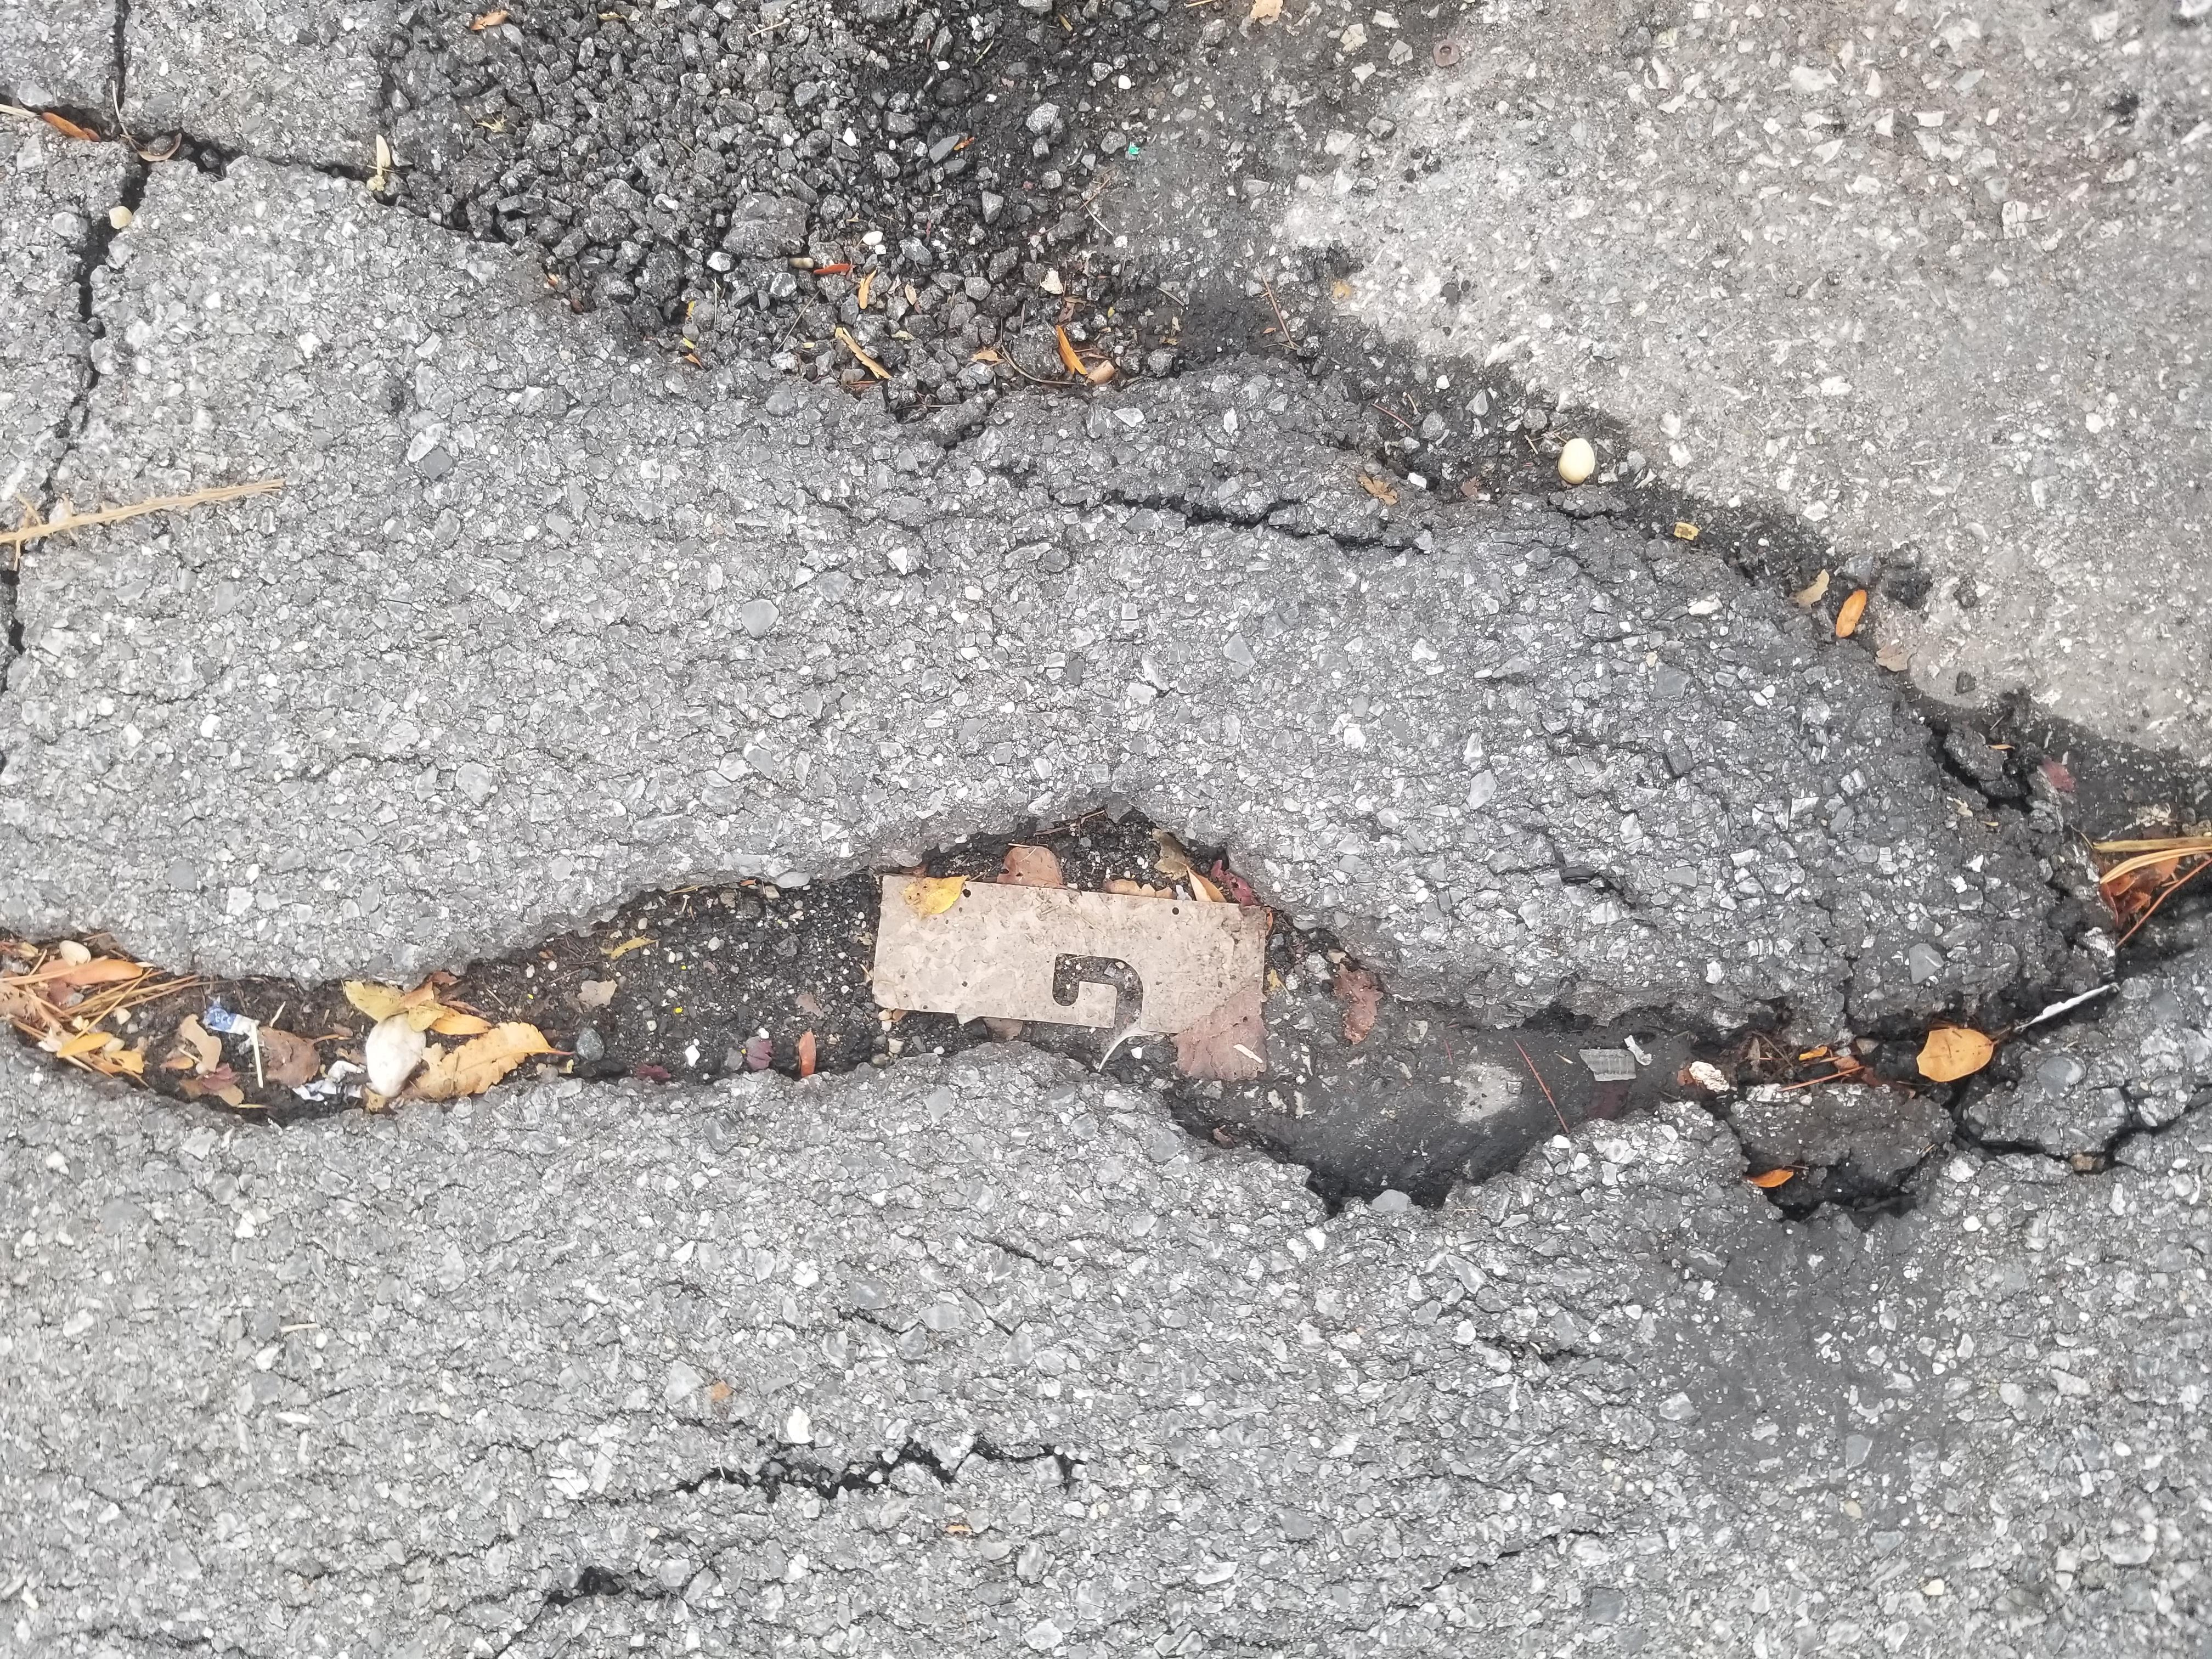crack: (629, 3, 1287, 1621), (1587, 16, 2144, 293)
